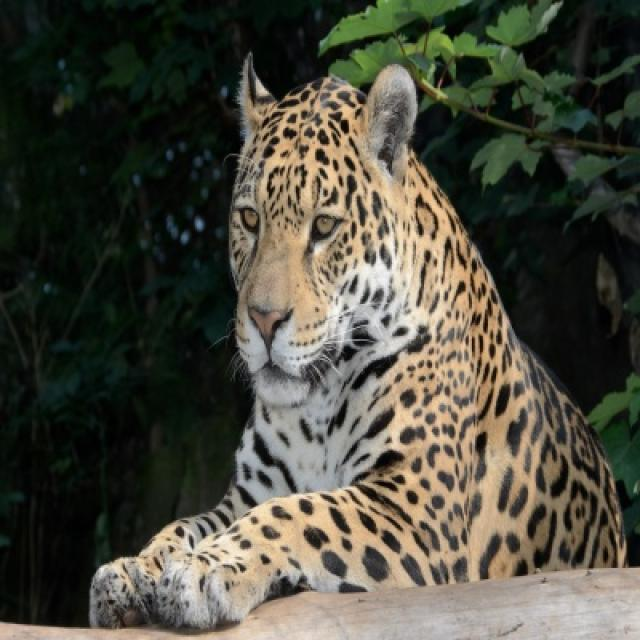Jaguar: (90, 54, 629, 635)
